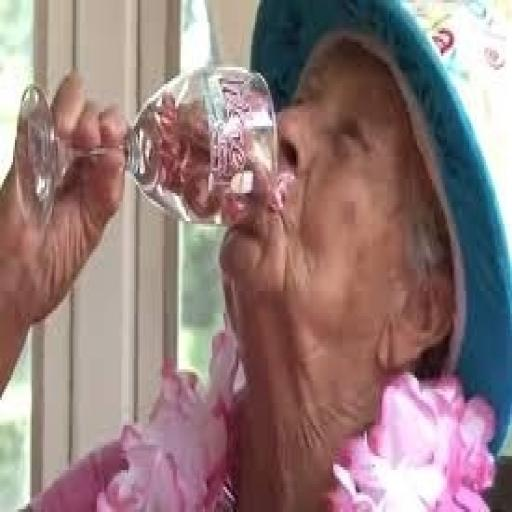drinking: (17, 62, 285, 226)
